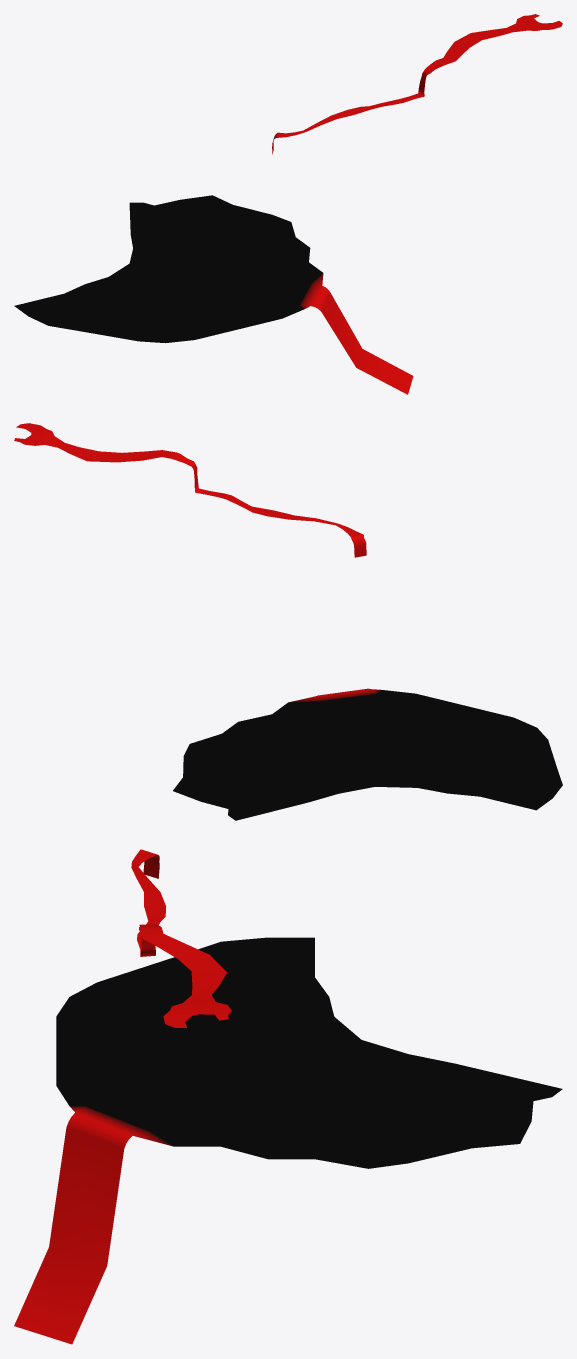
3 views of the same model, one above another, from view 1: azimuth 30°, elevation 25°; view 2: azimuth 150°, elevation 25°; view 3: azimuth 270°, elevation 25° (orthographic). The views are drawn at different scales.
Parts seen in each view (by area): view 1: G:\FFXIV-MapTools\exports\n4f6\bg\ex3\01_nvt_n4\fld\n4f6\bgp; view 2: G:\FFXIV-MapTools\exports\n4f6\bg\ex3\01_nvt_n4\fld\n4f6\bgp; view 3: G:\FFXIV-MapTools\exports\n4f6\bg\ex3\01_nvt_n4\fld\n4f6\bgp.
Part boxes in pixels (<box>): G:\FFXIV-MapTools\exports\n4f6\bg\ex3\01_nvt_n4\fld\n4f6\bgp: <box>14,14,562,394</box>; G:\FFXIV-MapTools\exports\n4f6\bg\ex3\01_nvt_n4\fld\n4f6\bgp: <box>14,423,562,820</box>; G:\FFXIV-MapTools\exports\n4f6\bg\ex3\01_nvt_n4\fld\n4f6\bgp: <box>14,849,562,1344</box>.
Bounding box in the file's own units: 227 × 122 × 132.
